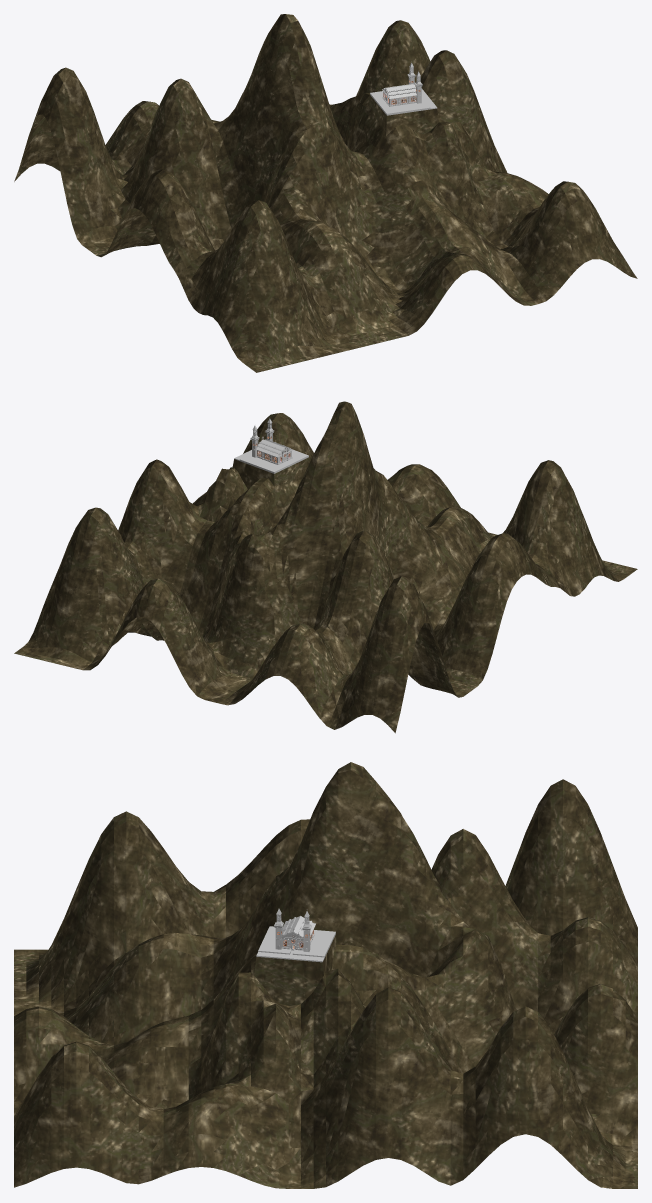
The model's file is churchTextures.FBX.
The picture shows the model from 3 angles, top to bottom: view 1: azimuth 30°, elevation 25°; view 2: azimuth 150°, elevation 25°; view 3: azimuth 270°, elevation 25°; orthographic projection. The views are drawn at different scales.
Visible parts, largest first — view 1: terrain, floorExterior; view 2: terrain, floorExterior; view 3: terrain, floorExterior.
Part boxes in pixels (box(x1,y1,x2,y2)): terrain: box(14, 14, 637, 372); floorExterior: box(370, 88, 437, 115); terrain: box(14, 401, 637, 733); floorExterior: box(234, 450, 308, 473); terrain: box(14, 762, 637, 1188); floorExterior: box(256, 926, 335, 962).
Size of the model in its own units: 132 by 74.61 by 145.
